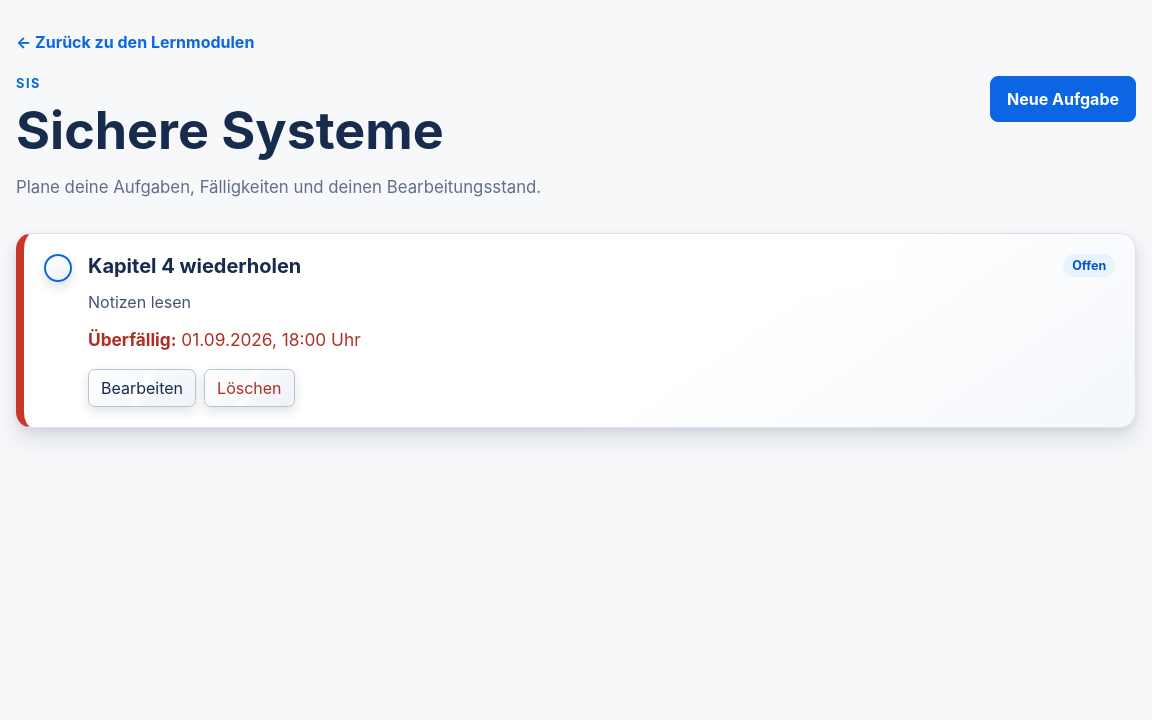
Test: StudyTasksView › updates a task and replaces it in the list
Click the button with class "edit-task-button". click: (142, 388)
box: [88,370,196,408]
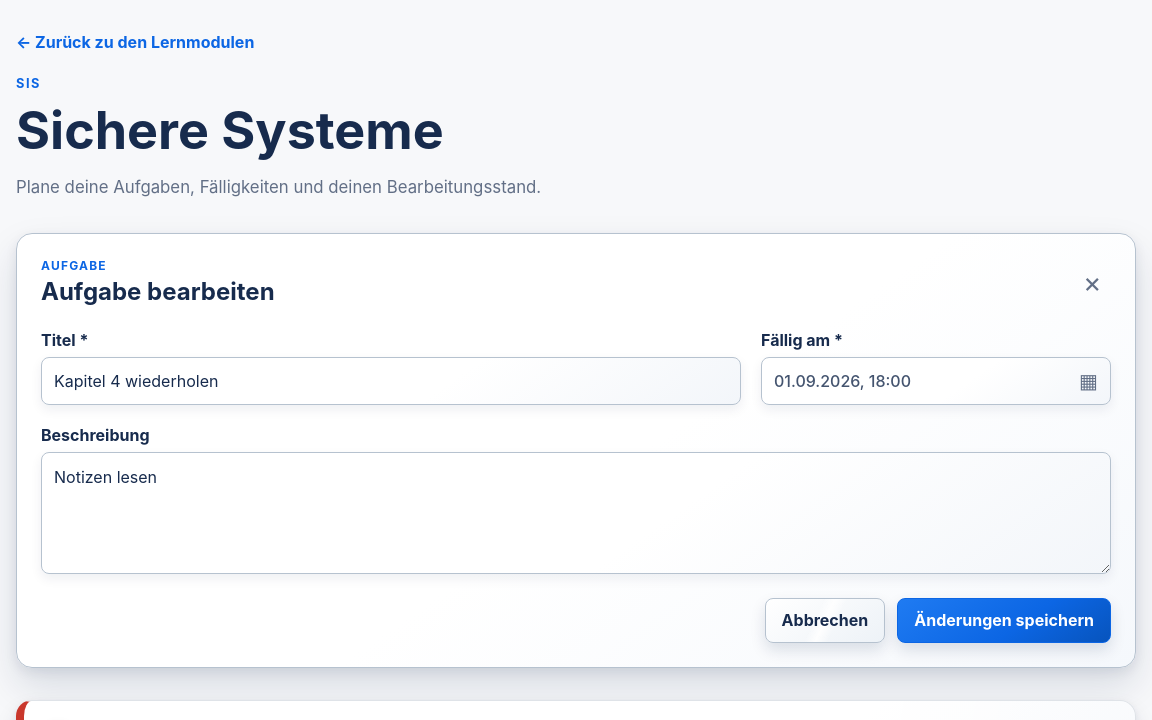
Replace the text in the field with id "task-title" with "Alle Kapitel wiederholen". click: (391, 381)
box: [41,357,741,405]
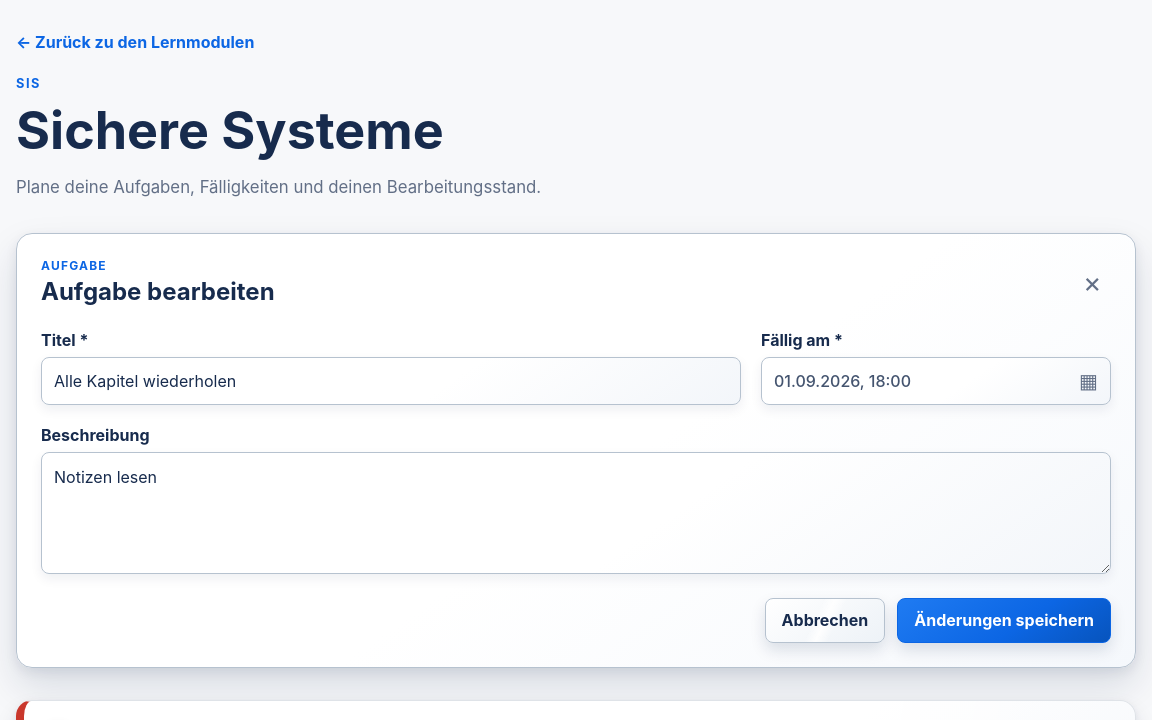
Submit the form with class "task-form", box [16,233,1136,668]
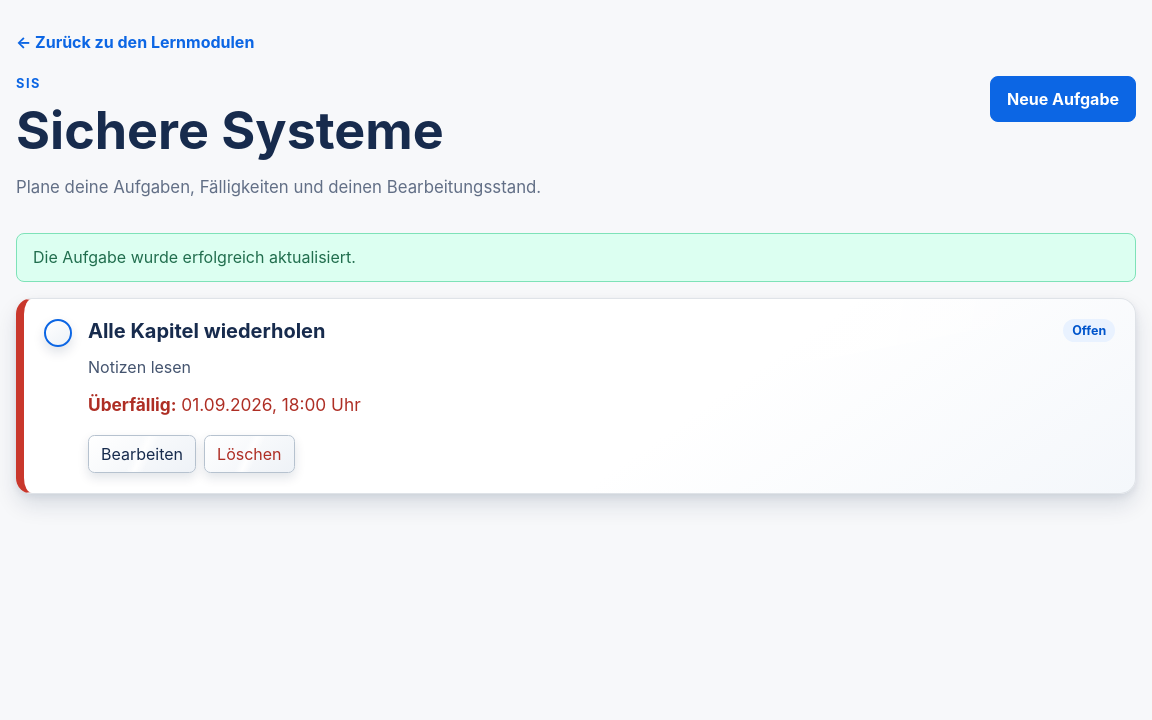
Expected: the text "Alle Kapitel wiederholen" is shown, [88,319,326,343]
Expected: the text "erfolgreich aktualisiert" is shown, [33,248,356,268]
